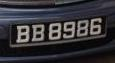6: (90, 17, 102, 35)
8: (47, 23, 62, 40), (77, 20, 89, 37)
9: (63, 21, 76, 40)
B: (16, 24, 31, 43), (31, 23, 45, 41)
